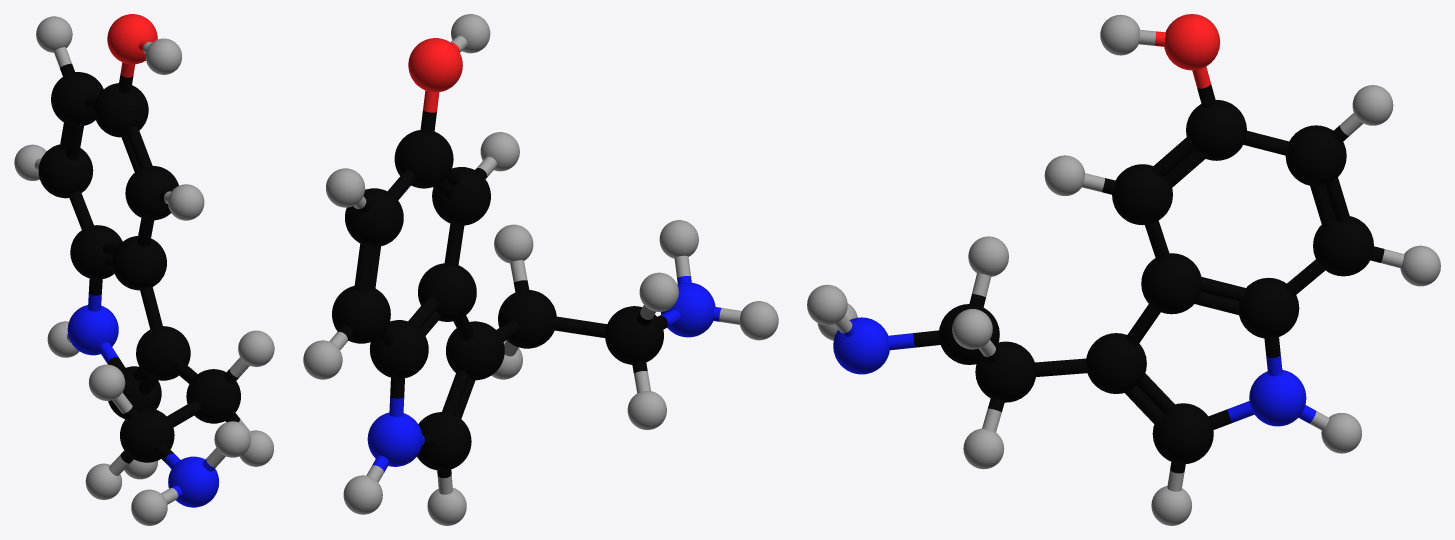
3 renders of one model, left to right at view 1: azimuth 30°, elevation 25°; view 2: azimuth 150°, elevation 25°; view 3: azimuth 270°, elevation 25°, orthographic. The views are drawn at different scales.
Parts seen in each view (by area): view 1: Serotonin_0; view 2: Serotonin_0; view 3: Serotonin_0.
Part boxes in pixels (x1,y1,x2,y2): Serotonin_0: (14, 14, 274, 525); Serotonin_0: (303, 14, 778, 525); Serotonin_0: (807, 14, 1440, 525).
Size of the model in its own units: 0.062 by 0.1324 by 0.1496.
